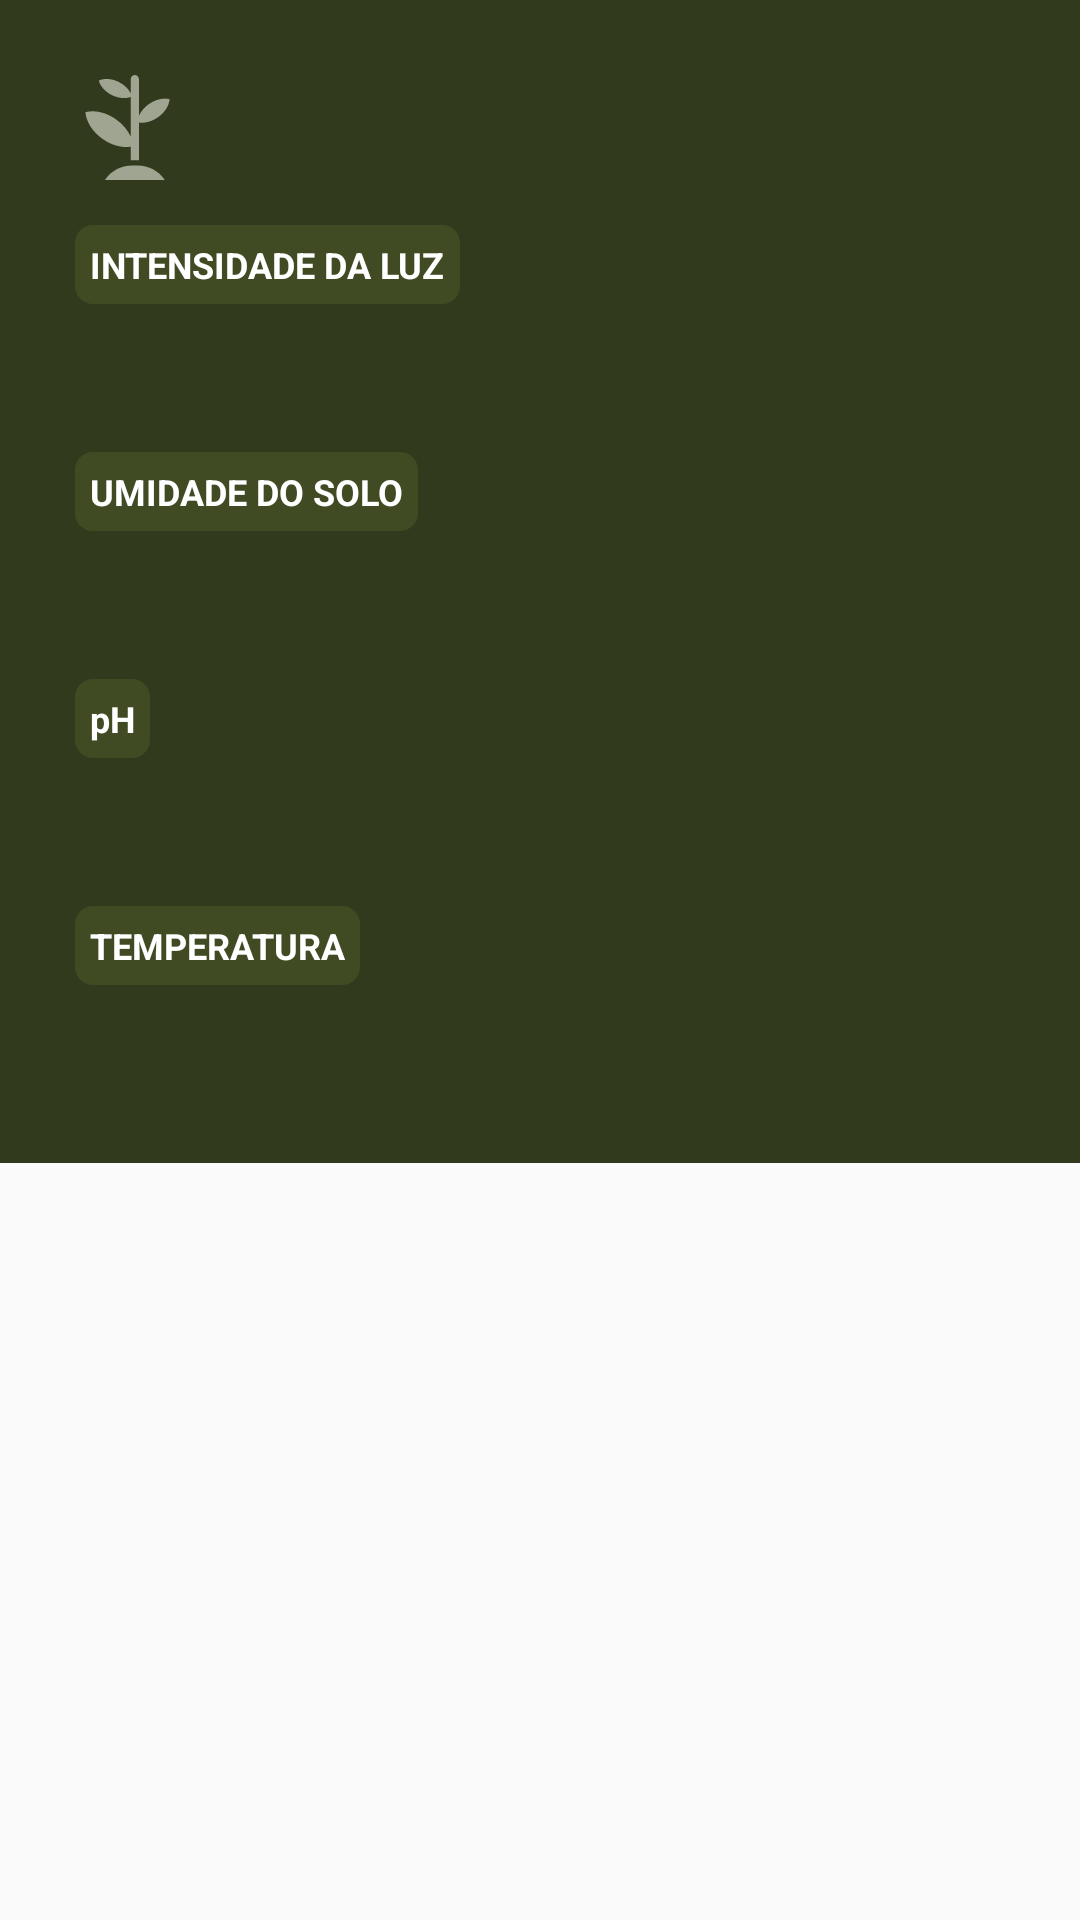

Icon click points for this 1080x1920 phone screenshot, format (x,y):
plant: (127,127)
